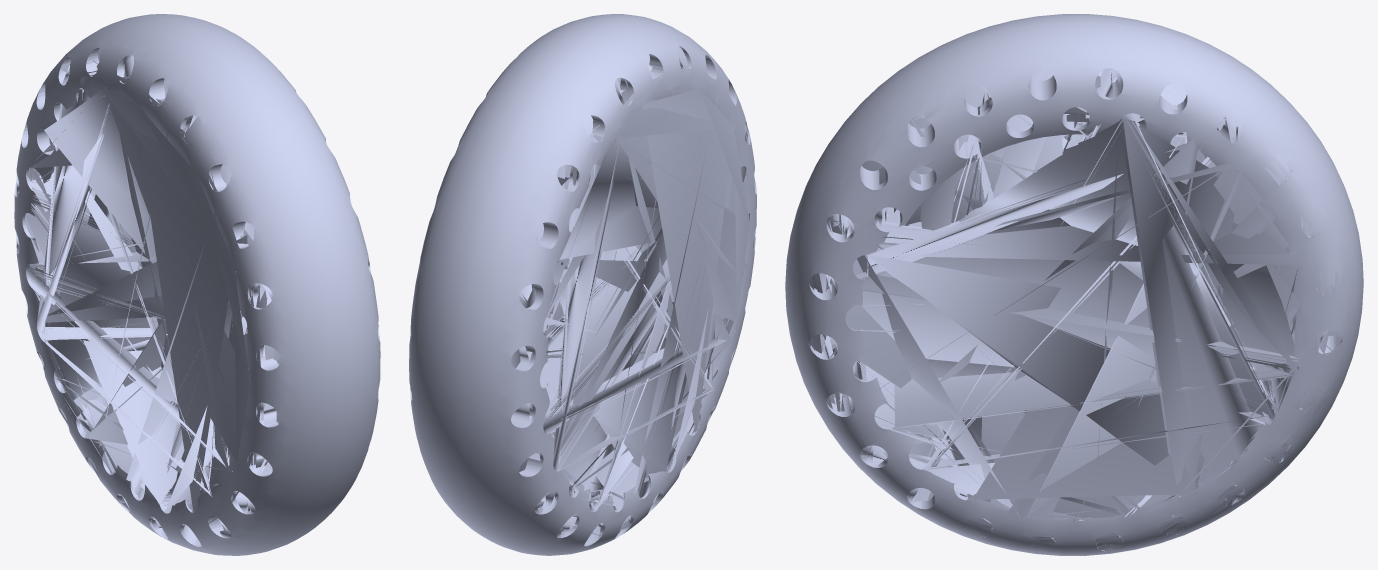
The model's file is fl_wheel_link.dae.
3 renders of one model, left to right at view 1: azimuth 30°, elevation 25°; view 2: azimuth 150°, elevation 25°; view 3: azimuth 270°, elevation 25°, orthographic. The views are drawn at different scales.
Visible parts, largest first — view 1: node0, node1, node2; view 2: node0, node1, node2; view 3: node0, node2, node1.
Boxes of the visible parts, left/top/right/bottom form: node0: left=14, top=14, right=380, bottom=555; node1: left=15, top=22, right=379, bottom=546; node2: left=17, top=43, right=376, bottom=546; node0: left=409, top=14, right=756, bottom=555; node1: left=409, top=20, right=756, bottom=554; node2: left=409, top=29, right=755, bottom=554; node0: left=785, top=14, right=1363, bottom=555; node2: left=800, top=45, right=1345, bottom=551; node1: left=799, top=14, right=1344, bottom=551.
Size of the model in its own units: 0.0735 by 0.2658 by 0.2659.
